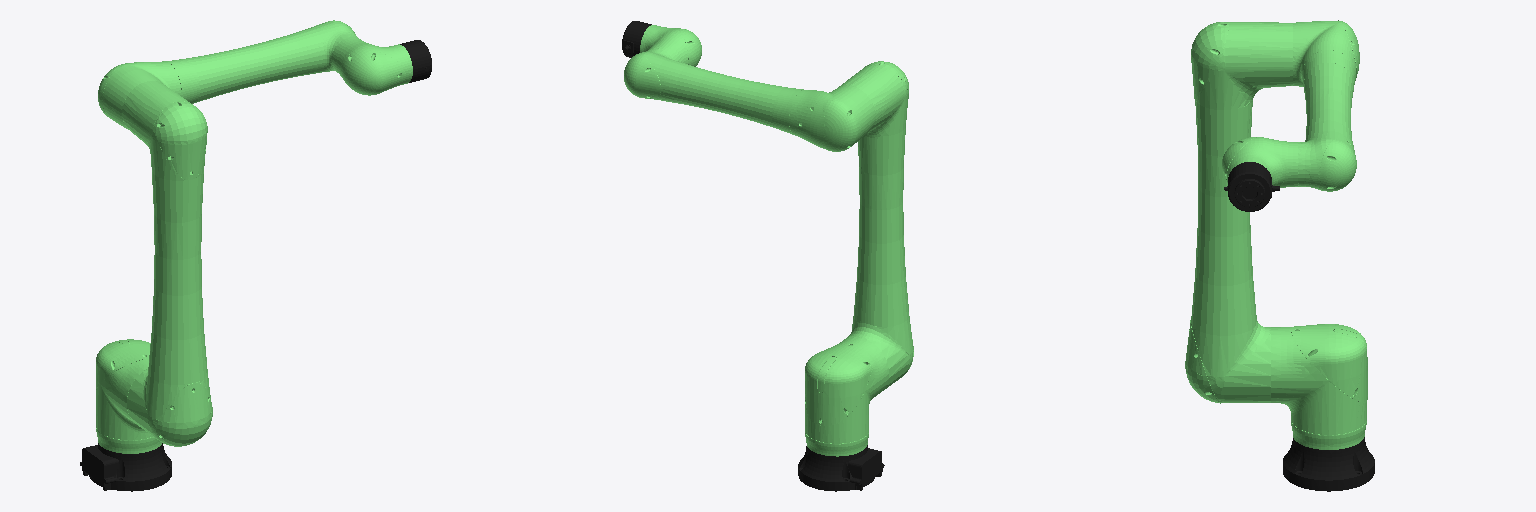
robot.urdf — cobot:
<?xml version="1.0"?>

<robot name="cobot" xmlns:xacro="http://ros.org/wiki/xacro">
  <inertia mass="40.0"/>
  
  <link
    name="base_link">
    <!--<inertial>
      <origin
        xyz="-0.0054024 -5.695E-07 0.040868"
        rpy="0 0 0"/>
      <mass
        value="1.9033" />
      <inertia
        ixx="0.0044459"
        ixy="-1.2065E-06"
        ixz="4.8707E-05"
        iyy="0.0051616"
        iyz="-2.1193E-08"
        izz="0.0076082" />
    </inertial>-->
    <visual>
      <origin
        xyz="0 0 0"
        rpy="-1.57 0 0" />
      <geometry>
        <mesh
          filename="package://cobot_manipulator/meshes/base_link.STL"/>
      </geometry>
      <material
        name="">
        <color
          rgba="0.15 0.15 0.15 1" />
      </material>
    </visual>
    <collision>
      <origin
        xyz="0 0 0"
        rpy="0 0 0" />
      <geometry>
        <mesh
          filename="package://cobot_manipulator/meshes/base_link.STL" />
      </geometry>
    </collision>
  </link>
  <link
    name="link_1">
    <inertial>
      <origin
        xyz="-7.9641E-07 -0.017683 0.12391"
        rpy="0 0 0" />
      <mass
        value="5.5063" />
      <inertia
        ixx="0.020803"
        ixy="1.2745E-09"
        ixz="-1.467E-07"
        iyy="0.0189"
        iyz="0.00566"
        izz="0.019496" />
    </inertial>
    <visual>
      <origin
        xyz="0 0 0"
        rpy="0 0 0" />
      <geometry>
        <mesh
          filename="package://cobot_manipulator/meshes/link_1.STL" />
      </geometry>
      <material
        name="">
        <color
          rgba="0.56 0.93 0.56 1" />
      </material>
    </visual>
    <collision>
      <origin
        xyz="0 0 0"
        rpy="0 0 0" />
      <geometry>
        <mesh
          filename="package://cobot_manipulator/meshes/link_1.STL" />
      </geometry>
    </collision>
  </link>
  <joint
    name="joint_1"
    type="revolute">
    <origin
      xyz="0 0 0.085"
      rpy="0 0 0" />
    <parent
      link="base_link" />
    <child
      link="link_1" />
    <axis
      xyz="0 0 1" />
    <limit
      lower="-3.14"
      upper="3.14"
      effort="0"
      velocity="2.0944" />
  </joint>
  <link
    name="link_2">
    <inertial>
      <origin
        xyz="9.0192E-07 -0.12698 0.34018"
        rpy="0 0 0" />
      <mass
        value="12.121" />
      <inertia
        ixx="0.95901"
        ixy="-3.3165E-07"
        ixz="-2.5217E-06"
        iyy="0.94749"
        iyz="-0.025323"
        izz="0.038025" />
    </inertial>
    <visual>
      <origin
        xyz="0 0 0"
        rpy="0 0 0" />
      <geometry>
        <mesh
          filename="package://cobot_manipulator/meshes/link_2.STL" />
      </geometry>
      <material
        name="">
        <color
          rgba="0.56 0.93 0.56 1" />
      </material>
    </visual>
    <collision>
      <origin
        xyz="0 0 0"
        rpy="0 0 0" />
      <geometry>
        <mesh
          filename="package://cobot_manipulator/meshes/link_2.STL" />
      </geometry>
    </collision>
  </link>
  <joint
    name="joint_2"
    type="revolute">
    <origin
      xyz="0 -0.075186 0.159"
      rpy="0 0 0" />
    <parent
      link="link_1" />
    <child
      link="link_2" />
    <axis
      xyz="0 1 0" />
    <limit
      lower="-3.14"
      upper="3.14"
      effort="0"
      velocity="2.0944" />
  </joint>
  <link
    name="link_3">
    <inertial>
      <origin
        xyz="0.035205 0.068719 2.6933E-07"
        rpy="0 0 0" />
      <mass
        value="2.8442" />
      <inertia
        ixx="0.0064391"
        ixy="-0.00042348"
        ixz="-2.309E-08"
        iyy="0.0078421"
        iyz="-4.8323E-08"
        izz="0.008109" />
    </inertial>
    <visual>
      <origin
        xyz="0 0 0"
        rpy="0 0 0" />
      <geometry>
        <mesh
          filename="package://cobot_manipulator/meshes/link_3.STL" />
      </geometry>
      <material
        name="">
        <color
          rgba="0.56 0.93 0.56 1" />
      </material>
    </visual>
    <collision>
      <origin
        xyz="0 0 0"
        rpy="0 0 0" />
      <geometry>
        <mesh
          filename="package://cobot_manipulator/meshes/link_3.STL" />
      </geometry>
    </collision>
  </link>
  <joint
    name="joint_3"
    type="revolute">
    <origin
      xyz="0 0 0.71002"
      rpy="0 0 0" />
    <parent
      link="link_2" />
    <child
      link="link_3" />
    <axis
      xyz="0 1 0" />
    <limit
      lower="-4.71"
      upper="4.71"
      effort="0"
      velocity="3.14" />
  </joint>
  <link
    name="link_4">
    <inertial>
      <origin
        xyz="0.23387 -0.0016926 6.0788E-07"
        rpy="0 0 0" />
      <mass
        value="3.4172" />
      <inertia
        ixx="0.0042325"
        ixy="0.0025254"
        ixz="-1.2208E-07"
        iyy="0.049785"
        iyz="2.7019E-08"
        izz="0.049781" />
    </inertial>
    <visual>
      <origin
        xyz="0 0 0"
        rpy="0 0 0" />
      <geometry>
        <mesh
          filename="package://cobot_manipulator/meshes/link_4.STL" />
      </geometry>
      <material
        name="">
        <color
          rgba="0.56 0.93 0.56 1" />
      </material>
    </visual>
    <collision>
      <origin
        xyz="0 0 0"
        rpy="0 0 0" />
      <geometry>
        <mesh
          filename="package://cobot_manipulator/meshes/link_4.STL" />
      </geometry>
    </collision>
  </link>
  <joint
    name="joint_4"
    type="revolute">
    <origin
      xyz="0.14747 0.075187 0"
      rpy="0 0 0" />
    <parent
      link="link_3" />
    <child
      link="link_4" />
    <axis
      xyz="1 0 0" />
    <limit
      lower="-3.32"
      upper="3.32"
      effort="34.8"
      velocity="3.14" />
  </joint>
  <link
    name="link_5">
    <inertial>
      <origin
        xyz="-0.085136 0.011963 -8.1413E-08"
        rpy="0 0 0" />
      <mass
        value="1.483" />
      <inertia
        ixx="0.0023969"
        ixy="0.00087645"
        ixz="3.9055E-08"
        iyy="0.0024921"
        iyz="-4.1231E-08"
        izz="0.0029639" />
    </inertial>
    <visual>
      <origin
        xyz="0 0 0"
        rpy="0 0 0" />
      <geometry>
        <mesh
          filename="package://cobot_manipulator/meshes/link_5.STL" />
      </geometry>
      <material
        name="">
        <color
          rgba="0.56 0.93 0.56 1" />
      </material>
    </visual>
    <collision>
      <origin
        xyz="0 0 0"
        rpy="0 0 0" />
      <geometry>
        <mesh
          filename="package://cobot_manipulator/meshes/link_5.STL" />
      </geometry>
    </collision>
  </link>
  <joint
    name="joint_5"
    type="revolute">
    <origin
      xyz="0.39153 -0.058144 0"
      rpy="-3.1416 0 1.5708" />
    <parent
      link="link_4" />
    <child
      link="link_5" />
    <axis
      xyz="1 0 0" />
    <limit
      lower="-3.14"
      upper="3.14"
      effort="26"
      velocity="3.14" />
  </joint>
  <link
    name="end_effector">
    <inertial>
      <origin
        xyz="0.032091 0.00047493 4.432E-06"
        rpy="0 0 0" />
      <mass
        value="0.36865" />
      <inertia
        ixx="0.00037851"
        ixy="2.3137E-19"
        ixz="-2.353E-08"
        iyy="0.00028272"
        iyz="1.0588E-21"
        izz="0.00028257" />
    </inertial>
    <visual>
      <origin
        xyz="0 0 0"
        rpy="0 0 0" />
      <geometry>
        <mesh
          filename="package://cobot_manipulator/meshes/end_effector.STL" />
      </geometry>
      <material
        name="">
        <color
          rgba="0.15 0.15 0.15 1" />
      </material>
    </visual>
    <collision>
      <origin
        xyz="0 0 0"
        rpy="0 0 0" />
      <geometry>
        <mesh
          filename="package://cobot_manipulator/meshes/end_effector.STL" />
      </geometry>
    </collision>
  </link>
  <joint
    name="joint_6"
    type="revolute">
    <origin
      xyz="-0.10536 0.080476 0"
      rpy="3.1416 0 1.5708" />
    <parent
      link="link_5" />
    <child
      link="end_effector" />
    <axis
      xyz="1 0 0" />
    <limit
      lower="-3.93"
      upper="3.93"
      effort="11"
      velocity="3.14" />
  </joint>
</robot>

--- What the picture shows (computed from the rendered views, not written in the file) ---
3 views of the same robot in one strip: view 1: azimuth 30°, elevation 25°; view 2: azimuth 150°, elevation 25°; view 3: azimuth 270°, elevation 25° (orthographic).
Model cobot with 7 links and 6 joints (6 revolute), rooted at base_link, posed every joint at zero.
Links seen in each view (by area): view 1: link_2, link_4, link_1, link_5, link_3, base_link, end_effector; view 2: link_2, link_1, link_4, link_3, base_link, link_5, end_effector; view 3: link_2, link_1, link_4, base_link, link_3, link_5, end_effector.
Link boxes in pixels (box(x1,y1,x2,y2)): link_2: box(122, 81, 212, 446); link_4: box(186, 20, 357, 102); link_1: box(96, 339, 161, 453); link_5: box(331, 37, 412, 95); link_3: box(98, 59, 199, 129); base_link: box(80, 443, 171, 491); end_effector: box(400, 40, 431, 82); link_2: box(839, 61, 913, 390); link_1: box(805, 337, 888, 456); link_4: box(624, 48, 785, 127); link_3: box(772, 85, 875, 151); base_link: box(798, 445, 884, 491); link_5: box(640, 25, 701, 66); end_effector: box(622, 21, 651, 57); link_2: box(1185, 22, 1292, 403); link_1: box(1271, 324, 1367, 449); link_4: box(1298, 63, 1356, 191); base_link: box(1283, 437, 1374, 491); link_3: box(1293, 20, 1359, 86); link_5: box(1222, 137, 1297, 187); end_effector: box(1224, 162, 1279, 211).
Size in the robot's own frame: 0.7823 by 0.3924 by 1.02 metres.
7 mesh visuals loaded from 7 distinct referenced files (7 binary STL).